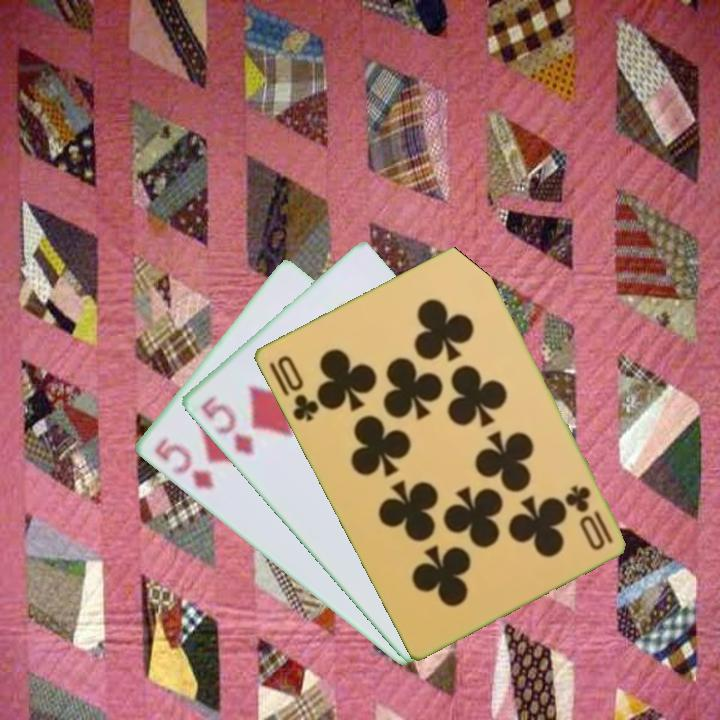10c: (561, 481, 616, 547), (273, 351, 322, 425)
5d: (196, 391, 257, 459), (150, 433, 217, 493)
